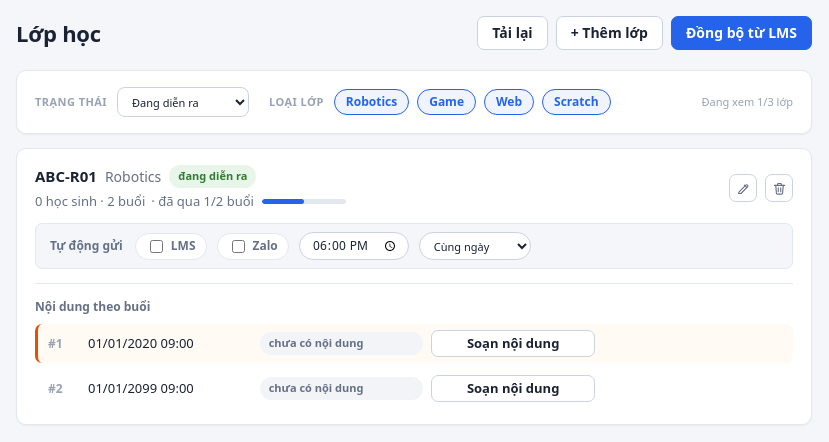
ClassesPage › bật lớp chưa bắt đầu rồi thu hẹp còn Game
Expected: the text "ABC-R01" is shown, [35, 165, 97, 188]
Select "Chưa bắt đầu" in the dropdown named "Lọc theo trạng thái": (183, 102) [117, 87, 249, 117]
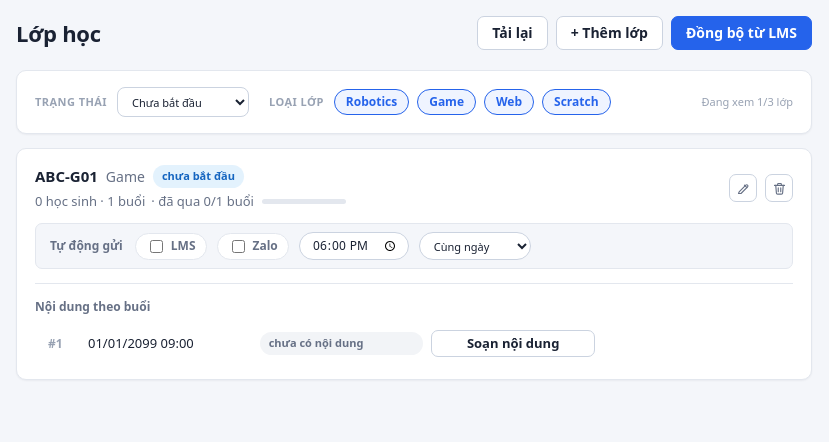
Expected: the text "Đang xem 1/3 lớp" is shown, [702, 94, 793, 110]
Now the text "ABC-G01" is shown, box [35, 165, 98, 188]
Now the text "ABC-R01" is gone
